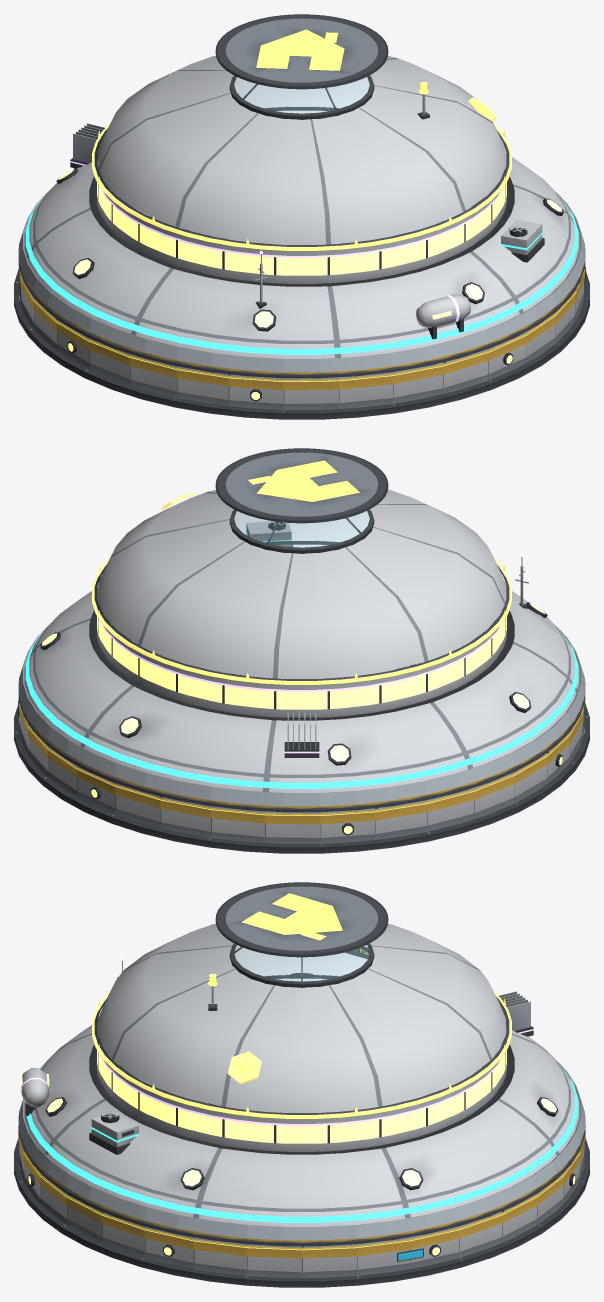
File: habitat_l.glb
3 renders of one model, top to bottom at view 1: azimuth 30°, elevation 25°; view 2: azimuth 150°, elevation 25°; view 3: azimuth 270°, elevation 25°, orthographic.
Parts seen in each view (by area): view 1: Roof, Base, L4, L5, Wall_20, Wall_21, Wall_22, Wall_19, Wall_23, Wall_18, Wall_24, Wall_17 (+13 smaller); view 2: Roof, Base, L5, L4, Wall_10, Wall_11, Wall_09, Wall_12, Wall_08, Wall_13, Wall_07, Wall_14 (+13 smaller); view 3: Roof, Base, L5, L4, Wall_00, Wall_31, Wall_30, Wall_01, Wall_29, L3, Wall_02, Wall_28 (+11 smaller).
Boxes of the visible parts, x1,y1,x2,y2 form: Roof: (18, 14, 585, 378); Base: (14, 201, 589, 419); L4: (70, 123, 504, 339); L5: (92, 82, 511, 250); Wall_20: (228, 373, 283, 409); Wall_21: (283, 377, 338, 409); Wall_22: (339, 372, 393, 408); Wall_19: (176, 366, 228, 405); Wall_23: (392, 362, 443, 403); Wall_18: (129, 353, 176, 397); Wall_24: (443, 349, 488, 393); Wall_17: (88, 338, 129, 385); Roof: (18, 448, 585, 812); Base: (14, 635, 589, 853); L5: (92, 450, 511, 684); L4: (99, 620, 504, 757); Wall_10: (265, 811, 320, 843); Wall_11: (320, 808, 375, 843); Wall_09: (210, 806, 264, 842); Wall_12: (375, 800, 427, 839); Wall_08: (160, 795, 211, 837); Wall_13: (427, 787, 474, 831); Wall_07: (115, 783, 160, 827); Wall_14: (474, 772, 515, 819); Roof: (18, 882, 585, 1246); Base: (14, 1078, 589, 1287); L5: (92, 973, 511, 1118); L4: (20, 991, 533, 1125); Wall_00: (302, 1244, 357, 1277); Wall_31: (246, 1244, 301, 1277); Wall_30: (193, 1237, 246, 1275); Wall_01: (357, 1237, 410, 1275); Wall_29: (144, 1226, 193, 1268); L3: (89, 1111, 139, 1154); Wall_02: (410, 1226, 459, 1268); Wall_28: (101, 1210, 144, 1257).
Size of the model in its own units: 20.76 by 9.84 by 20.76.
